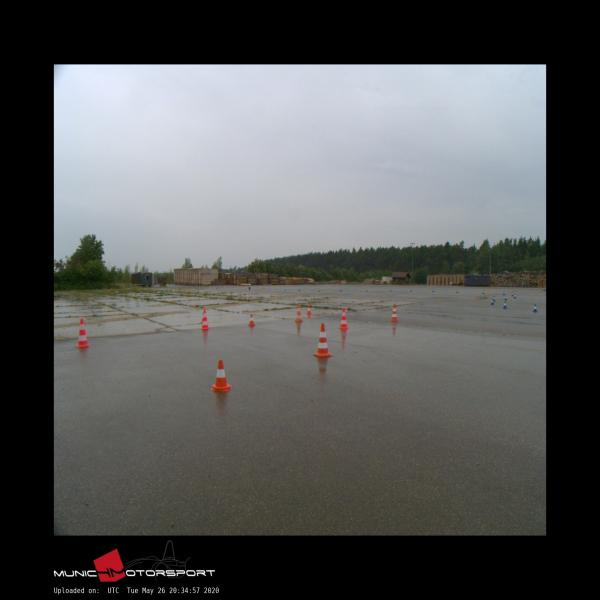blue_cone: (532, 304, 538, 312), (503, 301, 507, 308), (490, 298, 494, 305), (493, 296, 496, 302), (513, 294, 517, 298), (505, 295, 508, 300), (511, 292, 514, 296), (503, 291, 505, 295)
large_orange_cone: (313, 323, 332, 356), (76, 318, 90, 347), (338, 308, 348, 328), (201, 309, 209, 330), (390, 303, 398, 321), (295, 305, 303, 321)
orange_cone: (210, 360, 232, 390), (248, 314, 256, 326), (306, 305, 312, 314)
yellow_cone: (515, 290, 518, 294), (540, 291, 542, 295)
